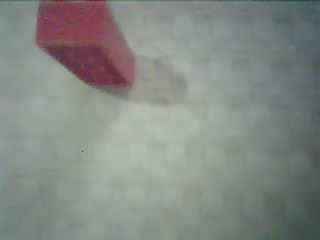lego: (34, 1, 134, 88)
